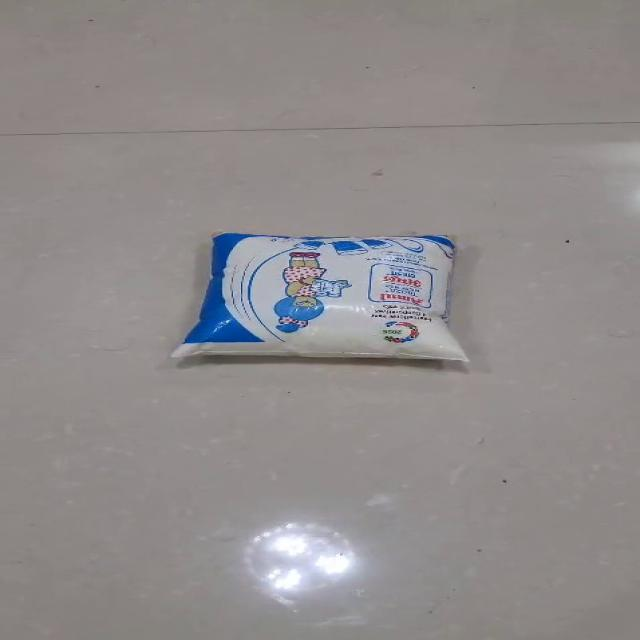plastic: (168, 229, 468, 362)
